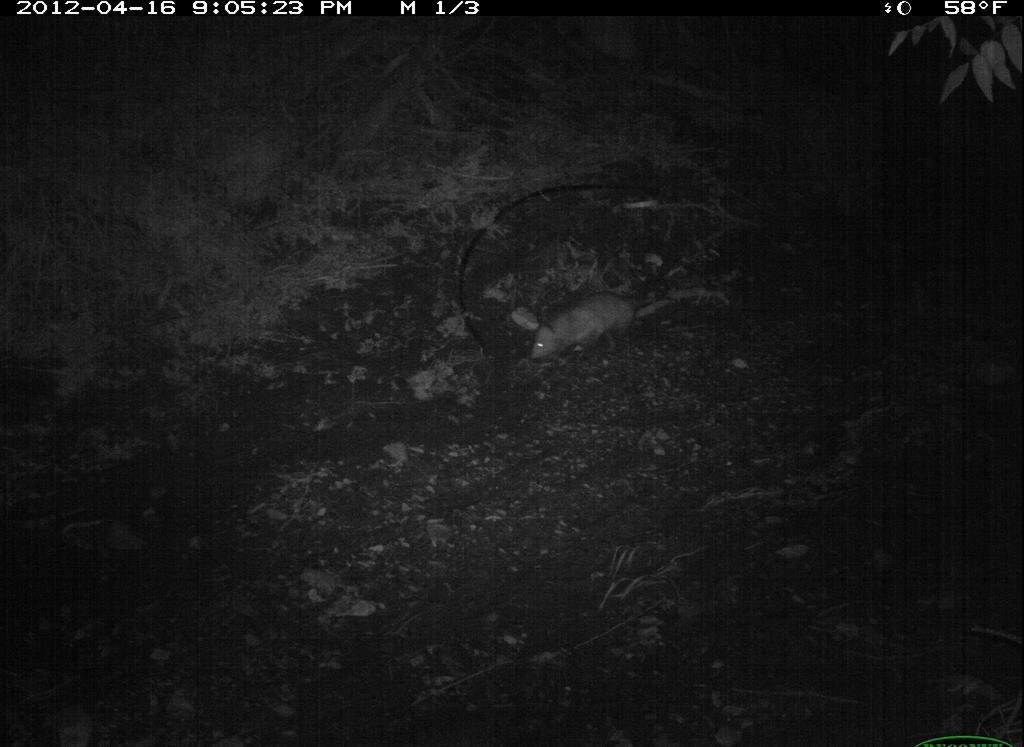opossum: (510, 282, 690, 377)
